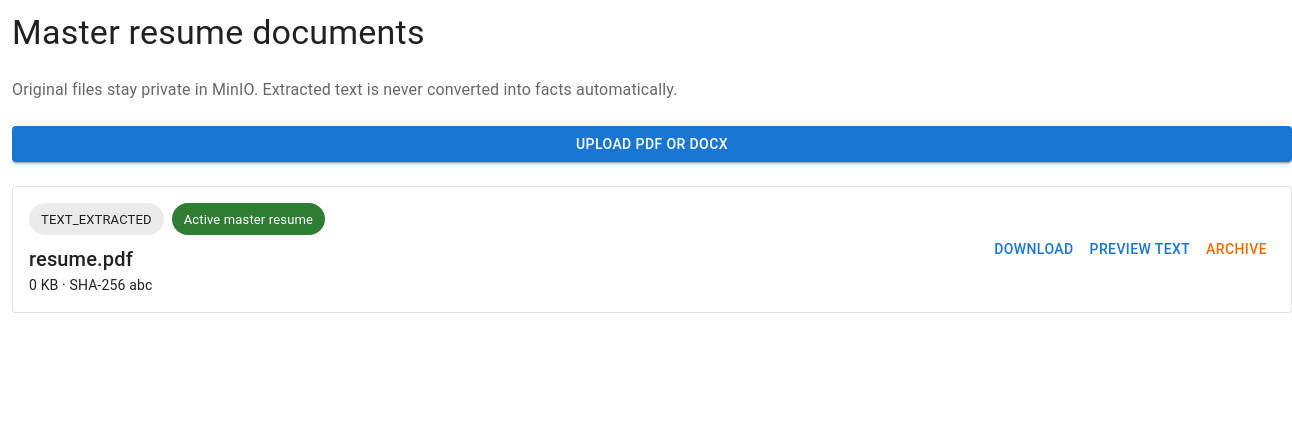
Test: Phase 2 pages › renders extracted text as plain text
This screenshot has width=1292, height=444.
What coordinates should you click on to do the following:
click the button "Preview text"
I would click on:
 (1140, 250)
Its box is [1082, 204, 1198, 296].
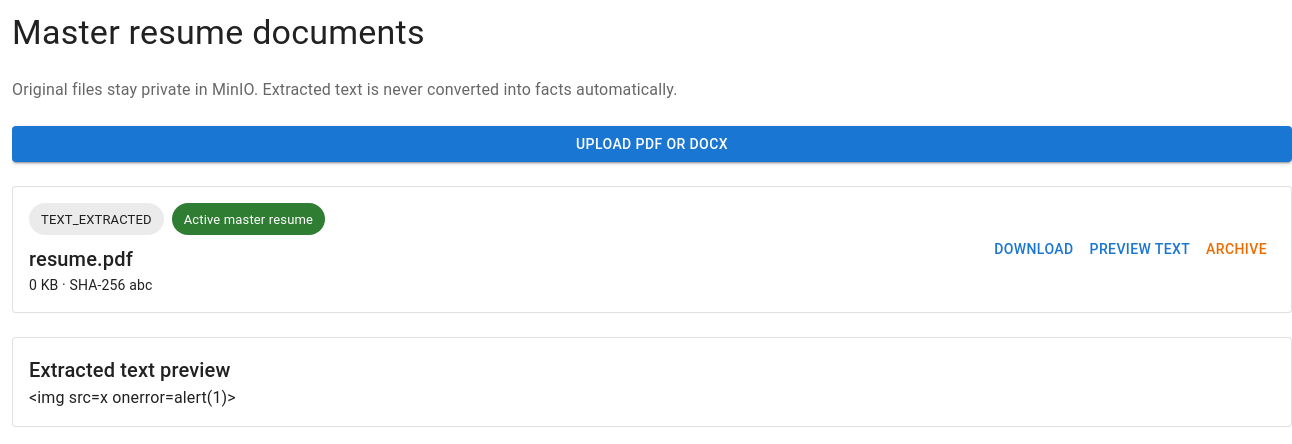
Expected: the text "<img src=x onerror=alert(1)>" is shown, [29, 388, 236, 406]
